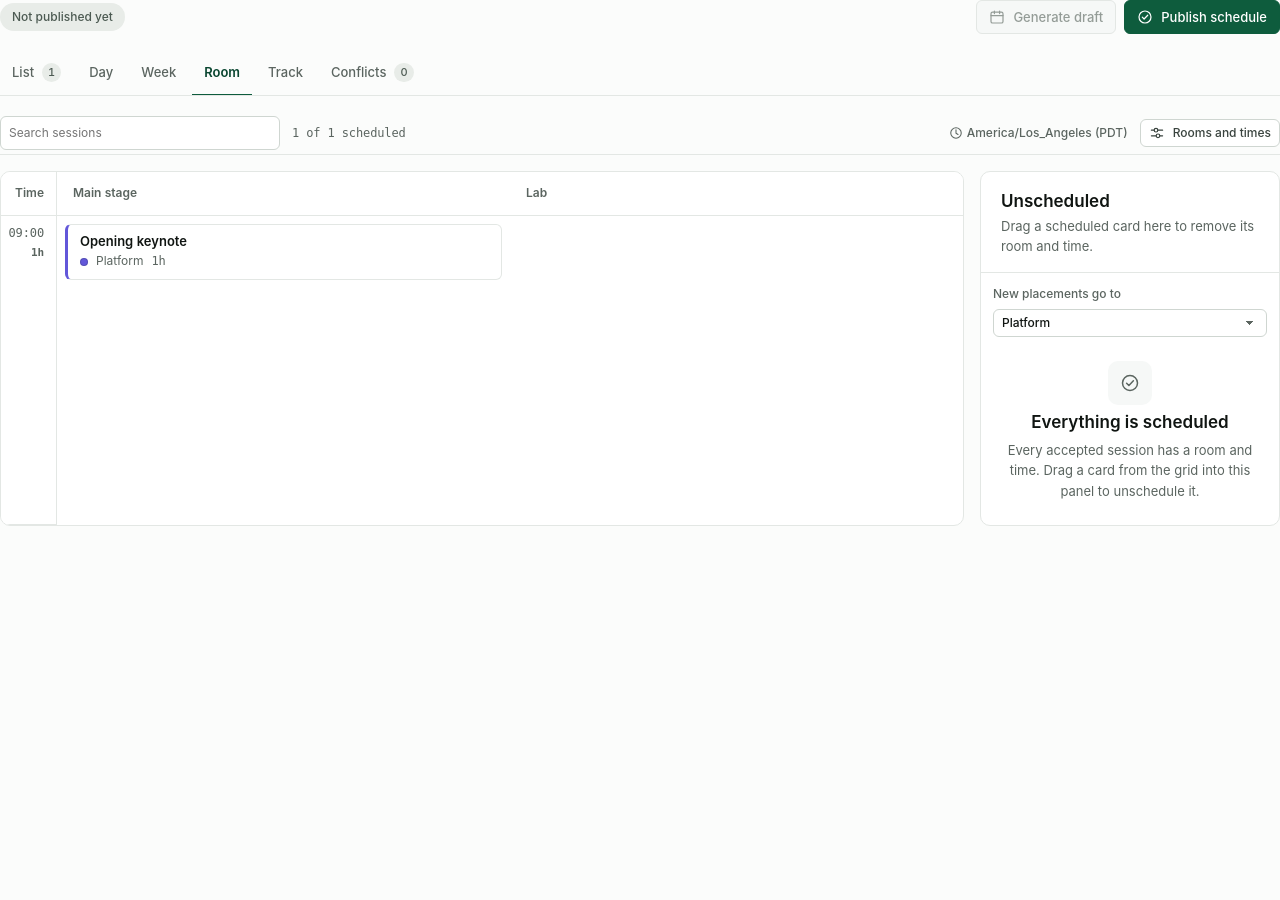
Scenario: AgendaWorkspace failure feedback › announces a refused publication where every other agenda outcome announces
Click the button "Publish schedule" at (1202, 17), box [1124,0,1279,34]
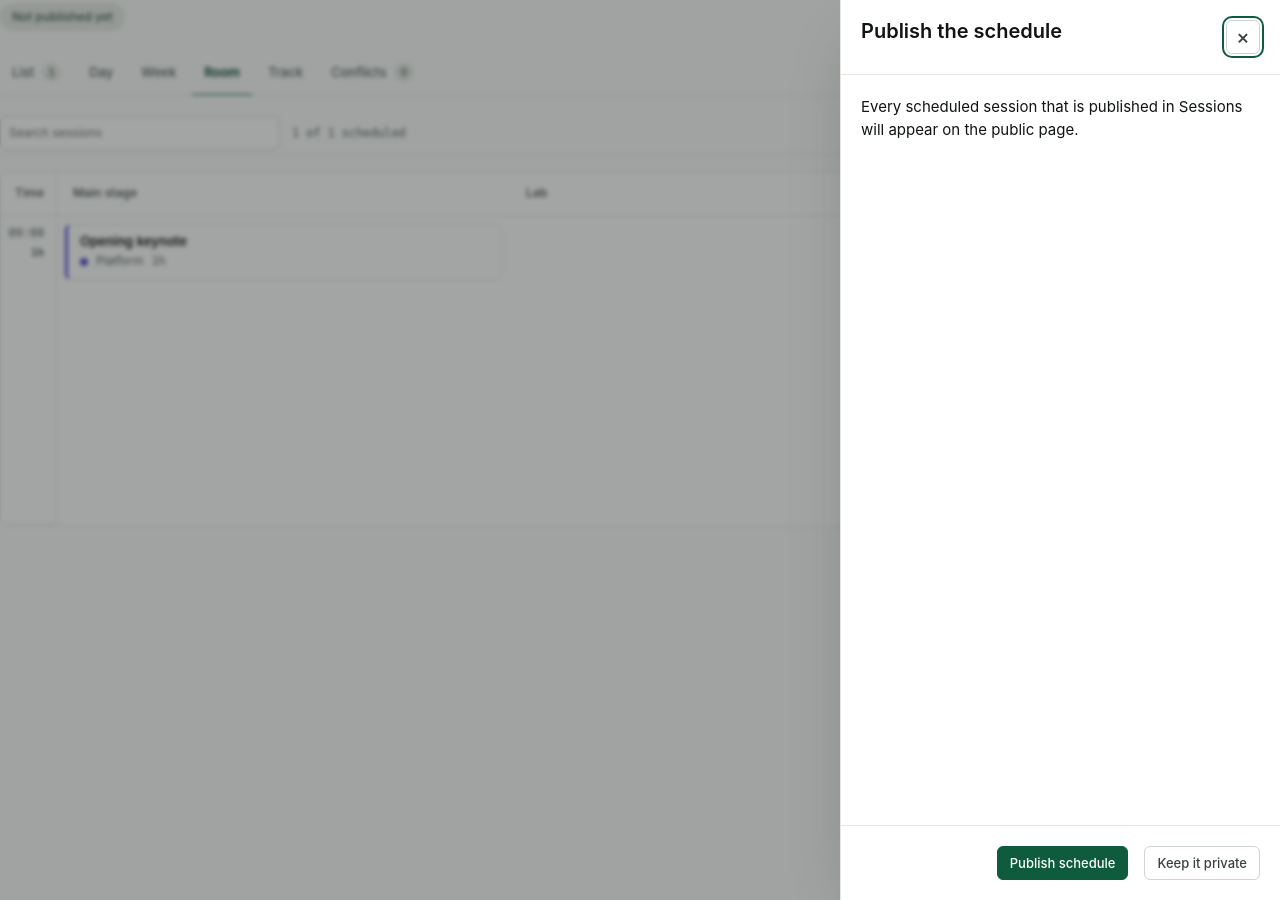
Click the button "Publish schedule" at (1063, 863), box [997,846,1128,880]
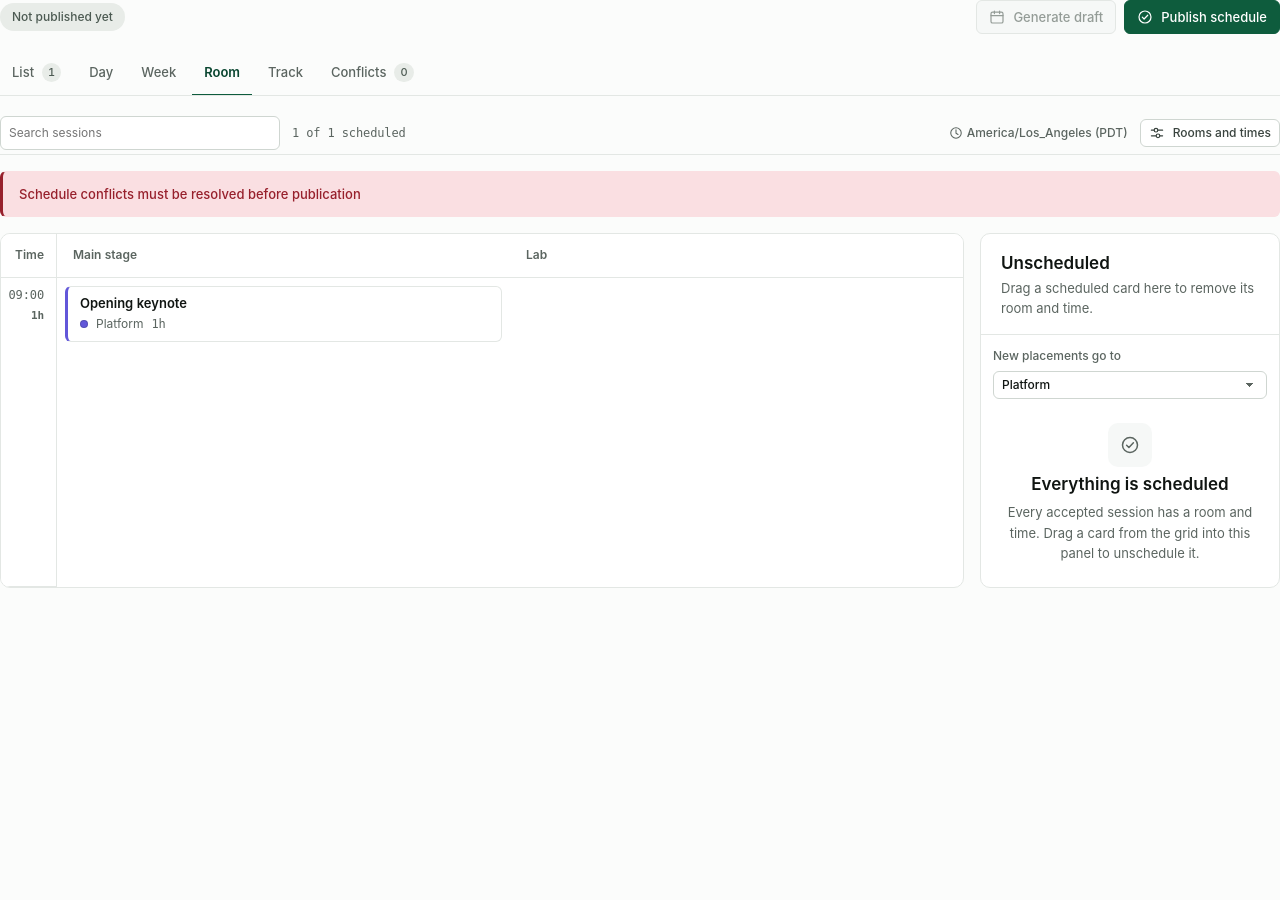
Check: the message reads "Schedule conflicts must be resolved before publication", box [19,186,361,202]
